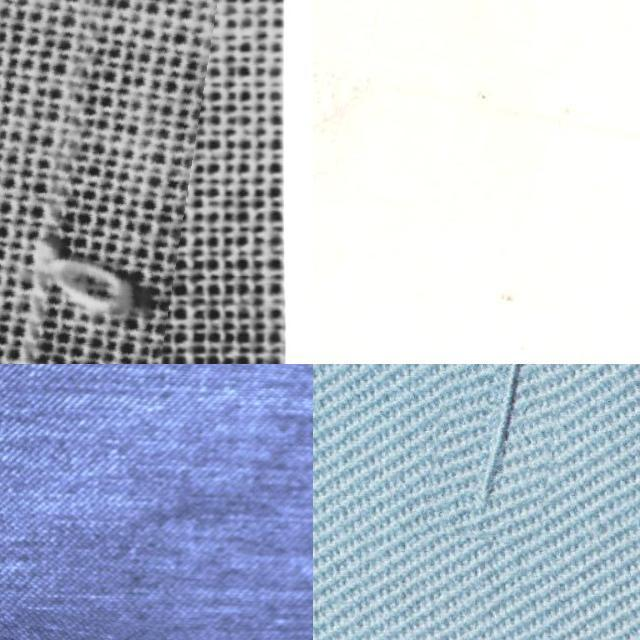Thread_other: (313, 0, 640, 351), (439, 364, 595, 545)
